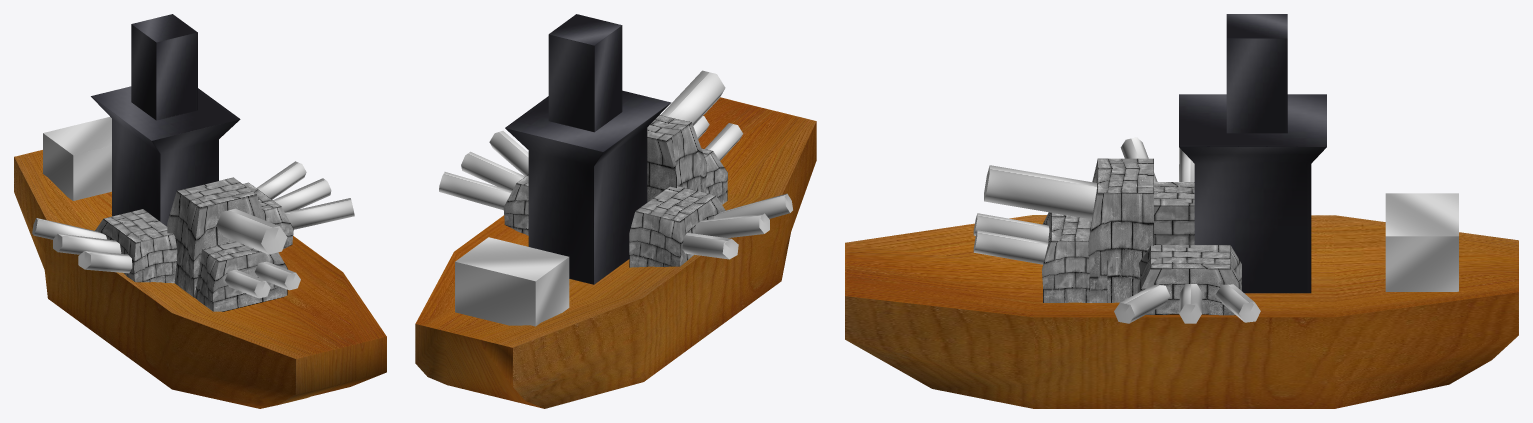
File: Senkan.FBX
3 renders of one model, left to right at view 1: azimuth 30°, elevation 25°; view 2: azimuth 150°, elevation 25°; view 3: azimuth 270°, elevation 25°, orthographic. The views are drawn at different scales.
Parts seen in each view (by area): view 1: Box001, Box004, Box005, Box003, Box008, Box006, Box002, Cylinder003, Cylinder004, Cylinder007, Cylinder005, Cylinder009 (+5 smaller); view 2: Box001, Box004, Box008, Box005, Box006, Box003, Cylinder003, Cylinder006, Cylinder007, Cylinder005, Cylinder008, Box007 (+4 smaller); view 3: Box001, Box004, Box003, Box005, Box008, Box007, Box002, Cylinder003, Box006, Cylinder002, Cylinder001, Cylinder004 (+2 smaller).
Part boxes in pixels (bbox=[...]): Box001: bbox=[14, 150, 386, 408]; Box004: bbox=[91, 86, 240, 226]; Box005: bbox=[131, 14, 197, 120]; Box003: bbox=[167, 177, 264, 297]; Box008: bbox=[43, 117, 111, 200]; Box006: bbox=[95, 209, 177, 283]; Box002: bbox=[186, 241, 287, 311]; Cylinder003: bbox=[216, 208, 287, 254]; Cylinder004: bbox=[285, 198, 354, 229]; Cylinder007: bbox=[53, 233, 121, 254]; Cylinder005: bbox=[273, 178, 331, 212]; Cylinder009: bbox=[78, 251, 132, 273]; Box001: bbox=[415, 97, 816, 408]; Box004: bbox=[505, 90, 671, 284]; Box008: bbox=[455, 237, 569, 326]; Box005: bbox=[548, 14, 622, 132]; Box006: bbox=[629, 186, 725, 267]; Box003: bbox=[647, 115, 706, 202]; Cylinder003: bbox=[661, 70, 725, 125]; Cylinder006: bbox=[439, 172, 511, 210]; Cylinder007: bbox=[694, 213, 769, 237]; Cylinder005: bbox=[461, 151, 525, 190]; Cylinder008: bbox=[682, 232, 738, 259]; Box007: bbox=[503, 174, 528, 235]; Box001: bbox=[845, 215, 1518, 408]; Box004: bbox=[1179, 94, 1326, 293]; Box003: bbox=[1088, 158, 1153, 302]; Box005: bbox=[1226, 14, 1287, 133]; Box008: bbox=[1385, 193, 1458, 291]; Box007: bbox=[1137, 244, 1241, 315]; Box002: bbox=[1042, 212, 1107, 302]; Cylinder003: bbox=[984, 165, 1096, 219]; Box006: bbox=[1154, 182, 1194, 244]; Cylinder002: bbox=[973, 230, 1048, 264]; Cylinder001: bbox=[973, 213, 1049, 242]; Cylinder004: bbox=[1114, 285, 1170, 323].
Size of the model in its own units: 160 by 282 by 153.
Materials: 5 (5 with a texture image).
